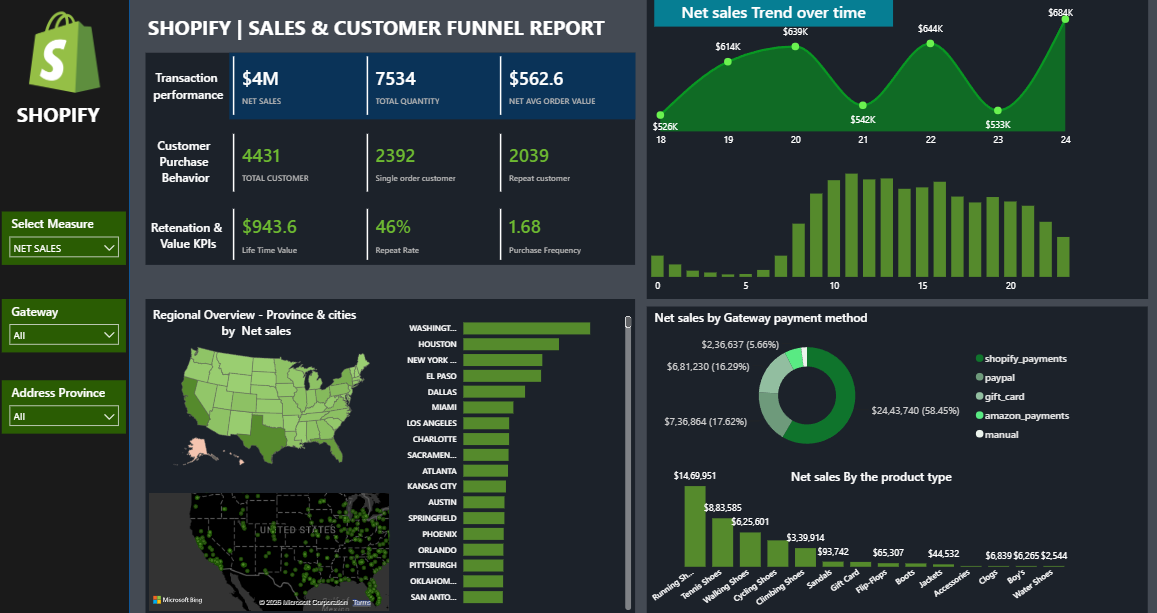

This screenshot's page, from the dashboard's own definition file:
{"tool":"powerbi","page":{"name":"Page 2","canvas":[1550,820],"ordinal":0},"visuals":[{"type":"shape","box":[0,0,176,820],"z":0},{"type":"textbox","box":[194.3,14.3,638.6,45.7],"z":1000},{"type":"shape","box":[197.1,71.4,652.9,282.9],"z":2000},{"type":"cardVisual","fields":{"Data":["shopify_sales.NET SALES","shopify_sales.TOTAL QUANTITY","shopify_sales.NET AVG ORDER VALUE"]},"box":[308.6,71.4,541.4,88.6],"z":3000},{"type":"card","fields":{"Values":["shopify_sales.Transaction performance"]},"box":[197.1,82.9,114.3,64.3],"z":4000},{"type":"cardVisual","fields":{"Data":["shopify_sales.TOTAL CUSTOMER","shopify_sales.Single order customer","shopify_sales.Repeat customer"]},"box":[308.6,174.3,541.4,87.1],"z":5000},{"type":"card","fields":{"Values":["shopify_sales.Customer Purchase Behavior"]},"box":[197.1,164.3,107.1,97.1],"z":6000},{"type":"cardVisual","fields":{"Data":["shopify_sales.Life Time Value","shopify_sales.Repeat Rate","shopify_sales.Purchase Frequency"]},"box":[308.6,275.7,541.4,78.6],"z":7000},{"type":"card","fields":{"Values":["shopify_sales.Retenation & Value KPIs"]},"box":[197.1,277.1,114.3,77.1],"z":8000},{"type":"shape","box":[197.1,400,652.9,420],"z":9000},{"type":"shapeMap","fields":{"Category":["shopify_sales.Billing Address Province"],"Value":["shopify_sales.NET SALES"]},"box":[214.3,447.1,300,192.9],"z":10000},{"type":"slicer","fields":{"Values":["Select Measure.Select Measure"]},"box":[5.7,282.9,165.7,71.4],"z":11000},{"type":"map","fields":{"Category":["shopify_sales.CITY"]},"box":[197.1,652.9,330,167.1],"z":12000},{"type":"clusteredBarChart","fields":{"Y":["shopify_sales.NET SALES"],"Category":["shopify_sales.CITY"]},"box":[527.1,410,322.9,410],"z":13000},{"type":"card","fields":{"Values":["shopify_sales.Dynamic table"]},"box":[197.1,371.4,295.7,118.6],"z":14000},{"type":"shape","box":[865.7,0,668.6,400],"z":15000},{"type":"areaChart","fields":{"Y":["shopify_sales.NET SALES"],"Category":["shopify_sales.Invoice Date.Variation.Date Hierarchy.Day"]},"box":[868.6,0,570,205.7],"z":16000},{"type":"columnChart","fields":{"Y":["shopify_sales.NET SALES"],"Category":["shopify_sales.Hour"]},"box":[865.7,204.3,570,195.7],"z":17000},{"type":"card","fields":{"Values":["shopify_sales.Trend Title"]},"box":[875.7,0,318.6,37.1],"z":18000},{"type":"shape","box":[868.6,410,650,410],"z":19000},{"type":"donutChart","fields":{"Y":["shopify_sales.NET SALES"],"Category":["shopify_sales.Gateway"]},"box":[850,441.4,592.9,174.3],"z":20000},{"type":"columnChart","fields":{"Y":["shopify_sales.NET SALES"],"Category":["shopify_sales.Product Type"]},"box":[865.7,611.4,577.1,208.6],"z":21000},{"type":"card","fields":{"Values":["shopify_sales.Gateway Title"]},"box":[858.6,404.3,318.6,42.9],"z":22000},{"type":"card","fields":{"Values":["shopify_sales.Product type title"]},"box":[1017.1,580,295.7,118.6],"z":23000},{"type":"slicer","fields":{"Values":["shopify_sales.Gateway"]},"box":[5.7,400,165.7,71.4],"z":24000},{"type":"image","box":[31.4,11.4,114.3,118.6],"z":25000},{"type":"slicer","fields":{"Values":["shopify_sales.Billing Address Province"]},"box":[5.7,508.6,165.7,71.4],"z":26000},{"type":"textbox","box":[20,130,150,56.7],"z":26001}]}

Visuals, with their boxes in screenshot pixels (x1, y1, x2, y2), scaled from the page's 1550x820 canvas onto the 1157x613 screenshot:
shape: locate(0, 0, 131, 612)
textbox: locate(145, 11, 622, 45)
shape: locate(147, 53, 634, 265)
cardVisual - shopify_sales.NET SALES x shopify_sales.TOTAL QUANTITY: locate(230, 53, 634, 120)
card - shopify_sales.Transaction performance: locate(147, 62, 232, 110)
cardVisual - shopify_sales.TOTAL CUSTOMER x shopify_sales.Single order customer: locate(230, 130, 634, 195)
card - shopify_sales.Customer Purchase Behavior: locate(147, 123, 227, 195)
cardVisual - shopify_sales.Life Time Value x shopify_sales.Repeat Rate: locate(230, 206, 634, 265)
card - shopify_sales.Retenation & Value KPIs: locate(147, 207, 232, 265)
shape: locate(147, 299, 634, 612)
shapeMap - shopify_sales.Billing Address Province x shopify_sales.NET SALES: locate(160, 334, 384, 478)
slicer - Select Measure.Select Measure: locate(4, 211, 128, 265)
map - shopify_sales.CITY: locate(147, 488, 393, 612)
clusteredBarChart - shopify_sales.NET SALES x shopify_sales.CITY: locate(393, 306, 634, 612)
card - shopify_sales.Dynamic table: locate(147, 278, 368, 366)
shape: locate(646, 0, 1145, 299)
areaChart - shopify_sales.NET SALES x shopify_sales.Invoice Date.Variation.Date Hierarchy.Day: locate(648, 0, 1074, 154)
columnChart - shopify_sales.NET SALES x shopify_sales.Hour: locate(646, 153, 1072, 299)
card - shopify_sales.Trend Title: locate(654, 0, 891, 28)
shape: locate(648, 306, 1134, 612)
donutChart - shopify_sales.NET SALES x shopify_sales.Gateway: locate(634, 330, 1077, 460)
columnChart - shopify_sales.NET SALES x shopify_sales.Product Type: locate(646, 457, 1077, 612)
card - shopify_sales.Gateway Title: locate(641, 302, 879, 334)
card - shopify_sales.Product type title: locate(759, 434, 980, 522)
slicer - shopify_sales.Gateway: locate(4, 299, 128, 352)
image: locate(23, 9, 109, 97)
slicer - shopify_sales.Billing Address Province: locate(4, 380, 128, 434)
textbox: locate(15, 97, 127, 140)
